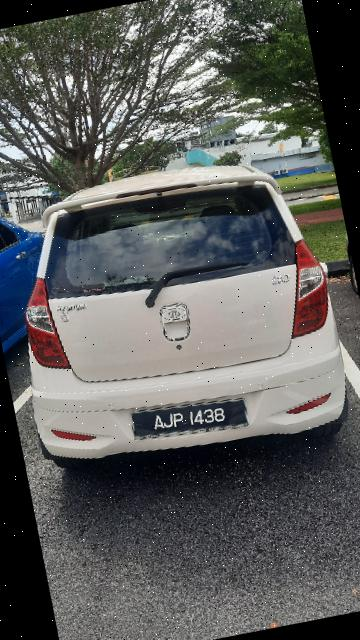License_Plate: (135, 381, 261, 464)
car: (1, 132, 360, 507)
